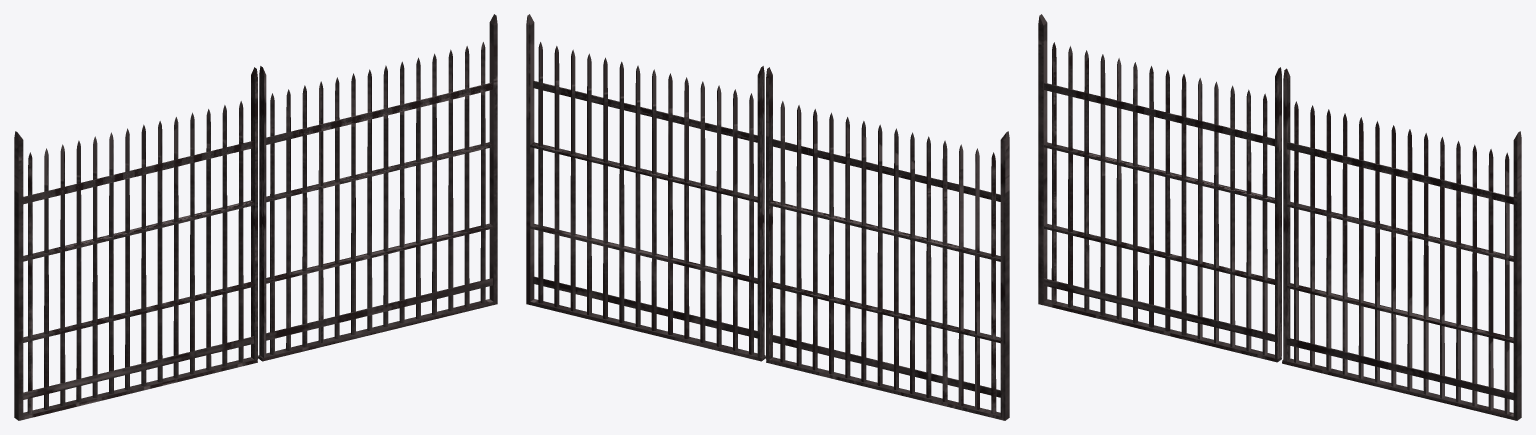
The model's file is old gate garage.fbx.
3 views of the same model, side by side, from view 1: azimuth 30°, elevation 25°; view 2: azimuth 150°, elevation 25°; view 3: azimuth 330°, elevation 25° (orthographic).
Visible parts, largest first — view 1: Cube.001; view 2: Cube.001; view 3: Cube.001.
Boxes of the visible parts, x1=… form: Cube.001: x1=14, y1=14, x2=497, y2=420; Cube.001: x1=526, y1=14, x2=1009, y2=420; Cube.001: x1=1038, y1=14, x2=1521, y2=420.
Size of the model in its own units: 418 by 244 by 6.71.
